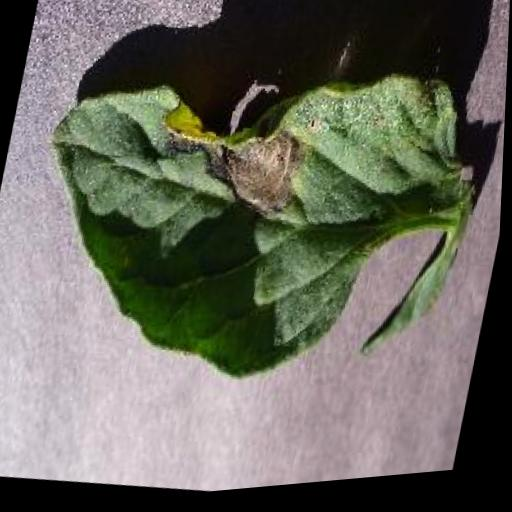Early Blight: (5, 23, 499, 434)
